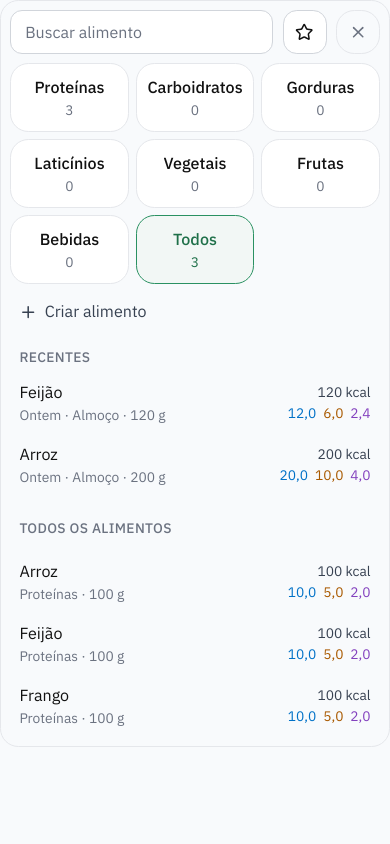
Test: FoodPicker — Recentes › some ao digitar, porque buscar é procurar outra coisa
This screenshot has width=390, height=844.
Step 1. Type "fr" into the search field named "Buscar alimento para adicionar" → (142, 32), box [10,10,274,54]
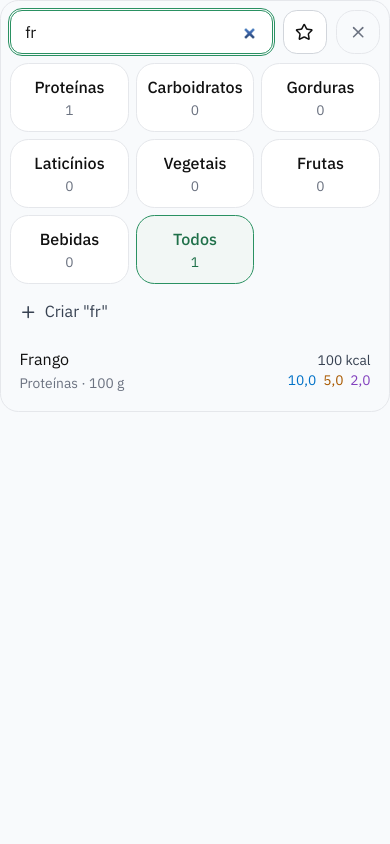
Expected: the heading "Recentes" is gone
